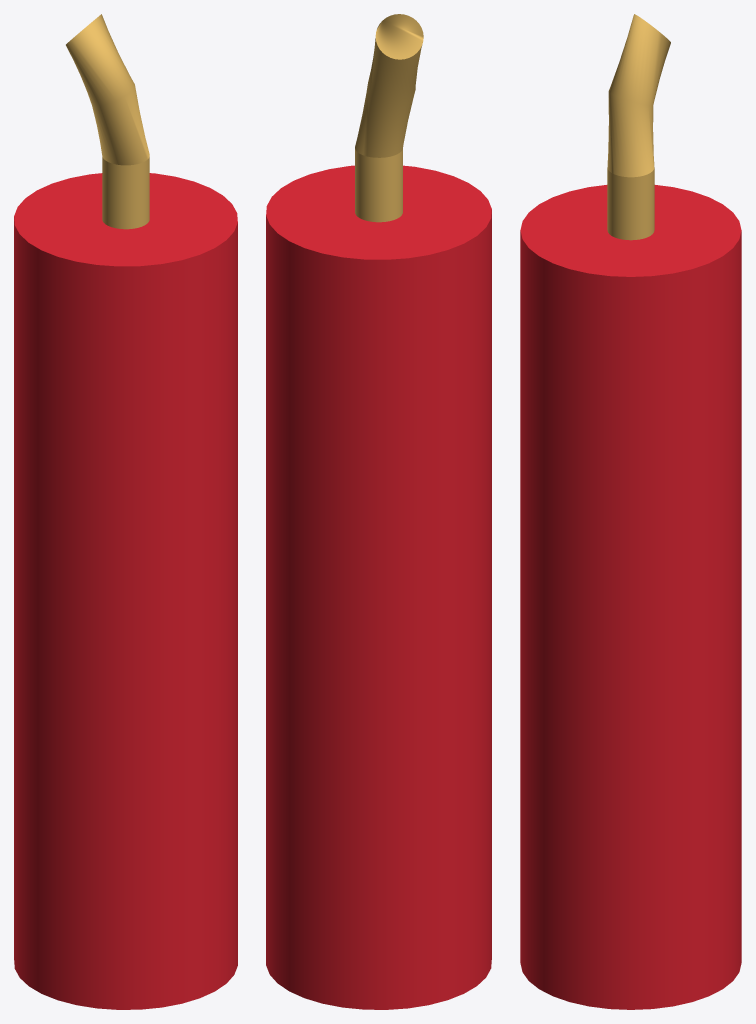
Rendered from dynamiteLowPoly.fbx.
3 renders of one model, left to right at view 1: azimuth 30°, elevation 25°; view 2: azimuth 150°, elevation 25°; view 3: azimuth 270°, elevation 25°, orthographic. The views are drawn at different scales.
Parts seen in each view (by area): view 1: Cylinder; view 2: Cylinder; view 3: Cylinder.
Boxes of the visible parts, left/top/right/bottom form: Cylinder: left=14, top=14, right=237, bottom=1009; Cylinder: left=266, top=14, right=491, bottom=1009; Cylinder: left=520, top=14, right=741, bottom=1009.
Size of the model in its own units: 200 by 933 by 200.
